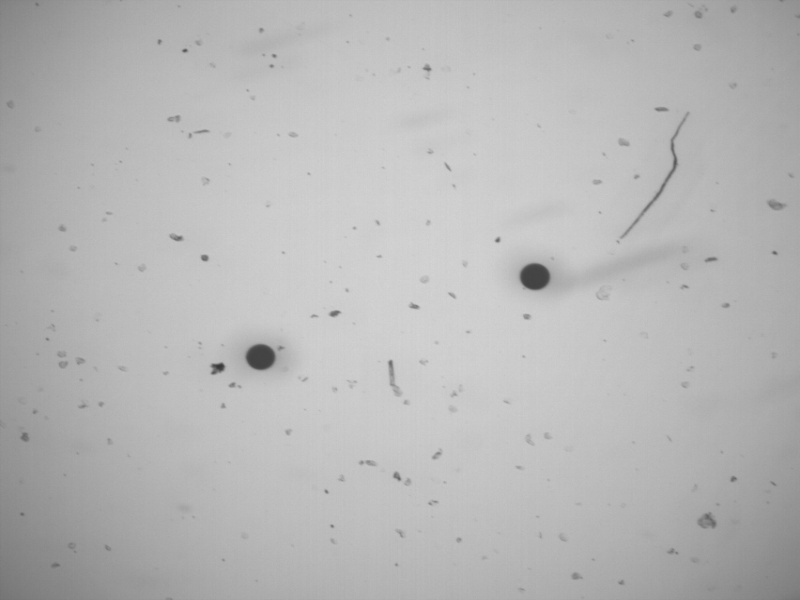bead: (243, 343, 278, 372), (518, 262, 552, 290)
fiber: (619, 105, 692, 241)
